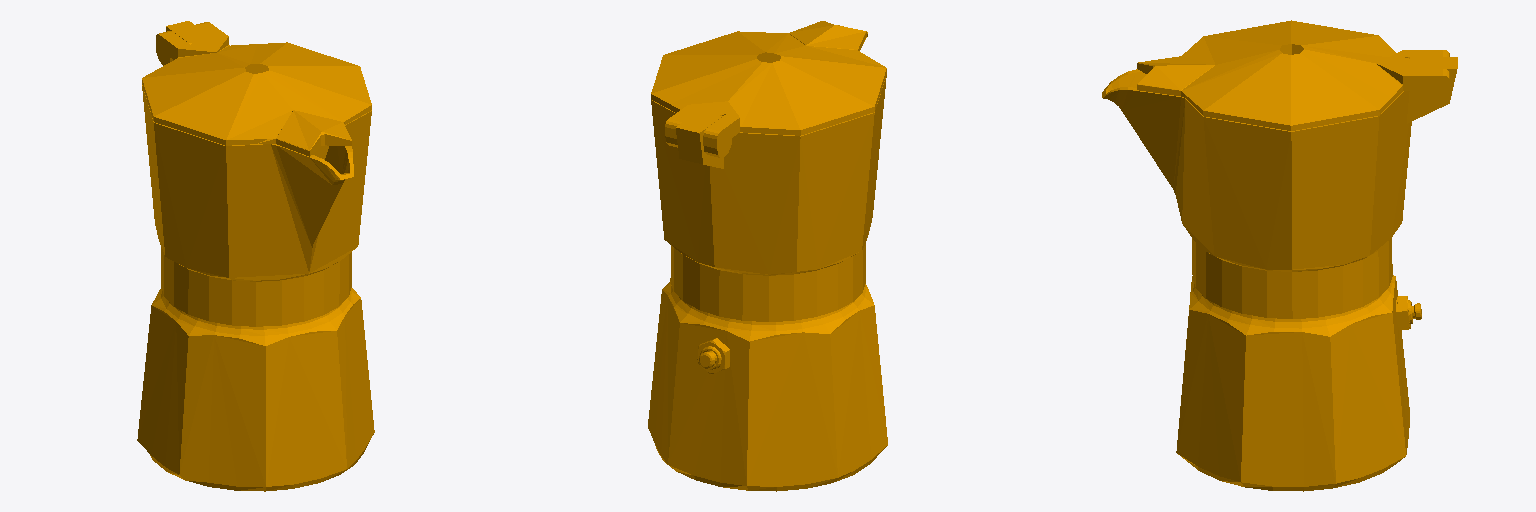
robot.urdf — moka_pot:
<?xml version="1.0"?>
<!-- GENERATED by tasks/libero/build_env/build_object_urdf.py. Do not hand edit.

     LIBERO object `moka_pot`, spawnable by the TRO-MP env.
     Role: graspable target object (envs/), one of the 22 LIBERO target assets.

     WHY a URDF when envs/moka_pot/ may also hold a USD: this env spawns objects
     only through `assets.object_urdf` (scene_utils.py:1929, which calls
     _convert_urdf_to_usd at :1964). The assets dataclass declares no USD field,
     so a ready-made USD cannot be handed to this code path.

     Mesh coordinates are PRESERVED, not re-centred: 11 of 22 LIBERO envs have
     their mesh origin at the object's base, and `goal_traj` tracks that origin.
     Re-centring would offset the object from its own trajectory every frame.

     Mass: density 800.0 kg/m^3 x mesh volume 5.175192e-04 m^3
     Inertia: solid-box approximation about the COM at that mass, NOT the true
     mesh inertia tensor. Adequate for a graspable tabletop object; revisit if
     spin dynamics matter.

     Collision: the full mesh, decomposed by Isaac's URDF importer. The convex
     decomposition authored in the DexVerse USD is NOT reproduced here.
-->
<robot name="moka_pot">
  <link name="moka_pot">
    <inertial>
      <origin xyz="0.000002 -0.000225 -0.000101" rpy="0 0 0"/>
      <mass value="0.414015"/>
      <inertia ixx="1.100690e-03" ixy="0" ixz="0" iyy="8.771256e-04" iyz="0" izz="6.562937e-04"/>
    </inertial>
    <visual>
      <origin xyz="0 0 0" rpy="0 0 0"/>
      <geometry><mesh filename="moka_pot.obj" scale="1 1 1"/></geometry>
    </visual>
    <collision>
      <origin xyz="0 0 0" rpy="0 0 0"/>
      <geometry><mesh filename="moka_pot.obj" scale="1 1 1"/></geometry>
    </collision>
  </link>
</robot>

--- What the picture shows (computed from the rendered views, not written in the file) ---
3 views of the same robot in one strip: view 1: azimuth 30°, elevation 25°; view 2: azimuth 150°, elevation 25°; view 3: azimuth 270°, elevation 25° (orthographic).
Model moka_pot with 1 links and 0 joints (none), rooted at moka_pot, posed all joints at 0.
Links seen in each view (by area): view 1: moka_pot; view 2: moka_pot; view 3: moka_pot.
Boxes of the visible links, x1,y1,x2,y2 form: moka_pot: (137, 21, 374, 491); moka_pot: (648, 21, 887, 491); moka_pot: (1102, 20, 1457, 491).
Size in the robot's own frame: 0.0792 by 0.1129 by 0.1384 metres.
Meshes: 1 distinct files referenced, 1 mesh visuals loaded (1 OBJ).
